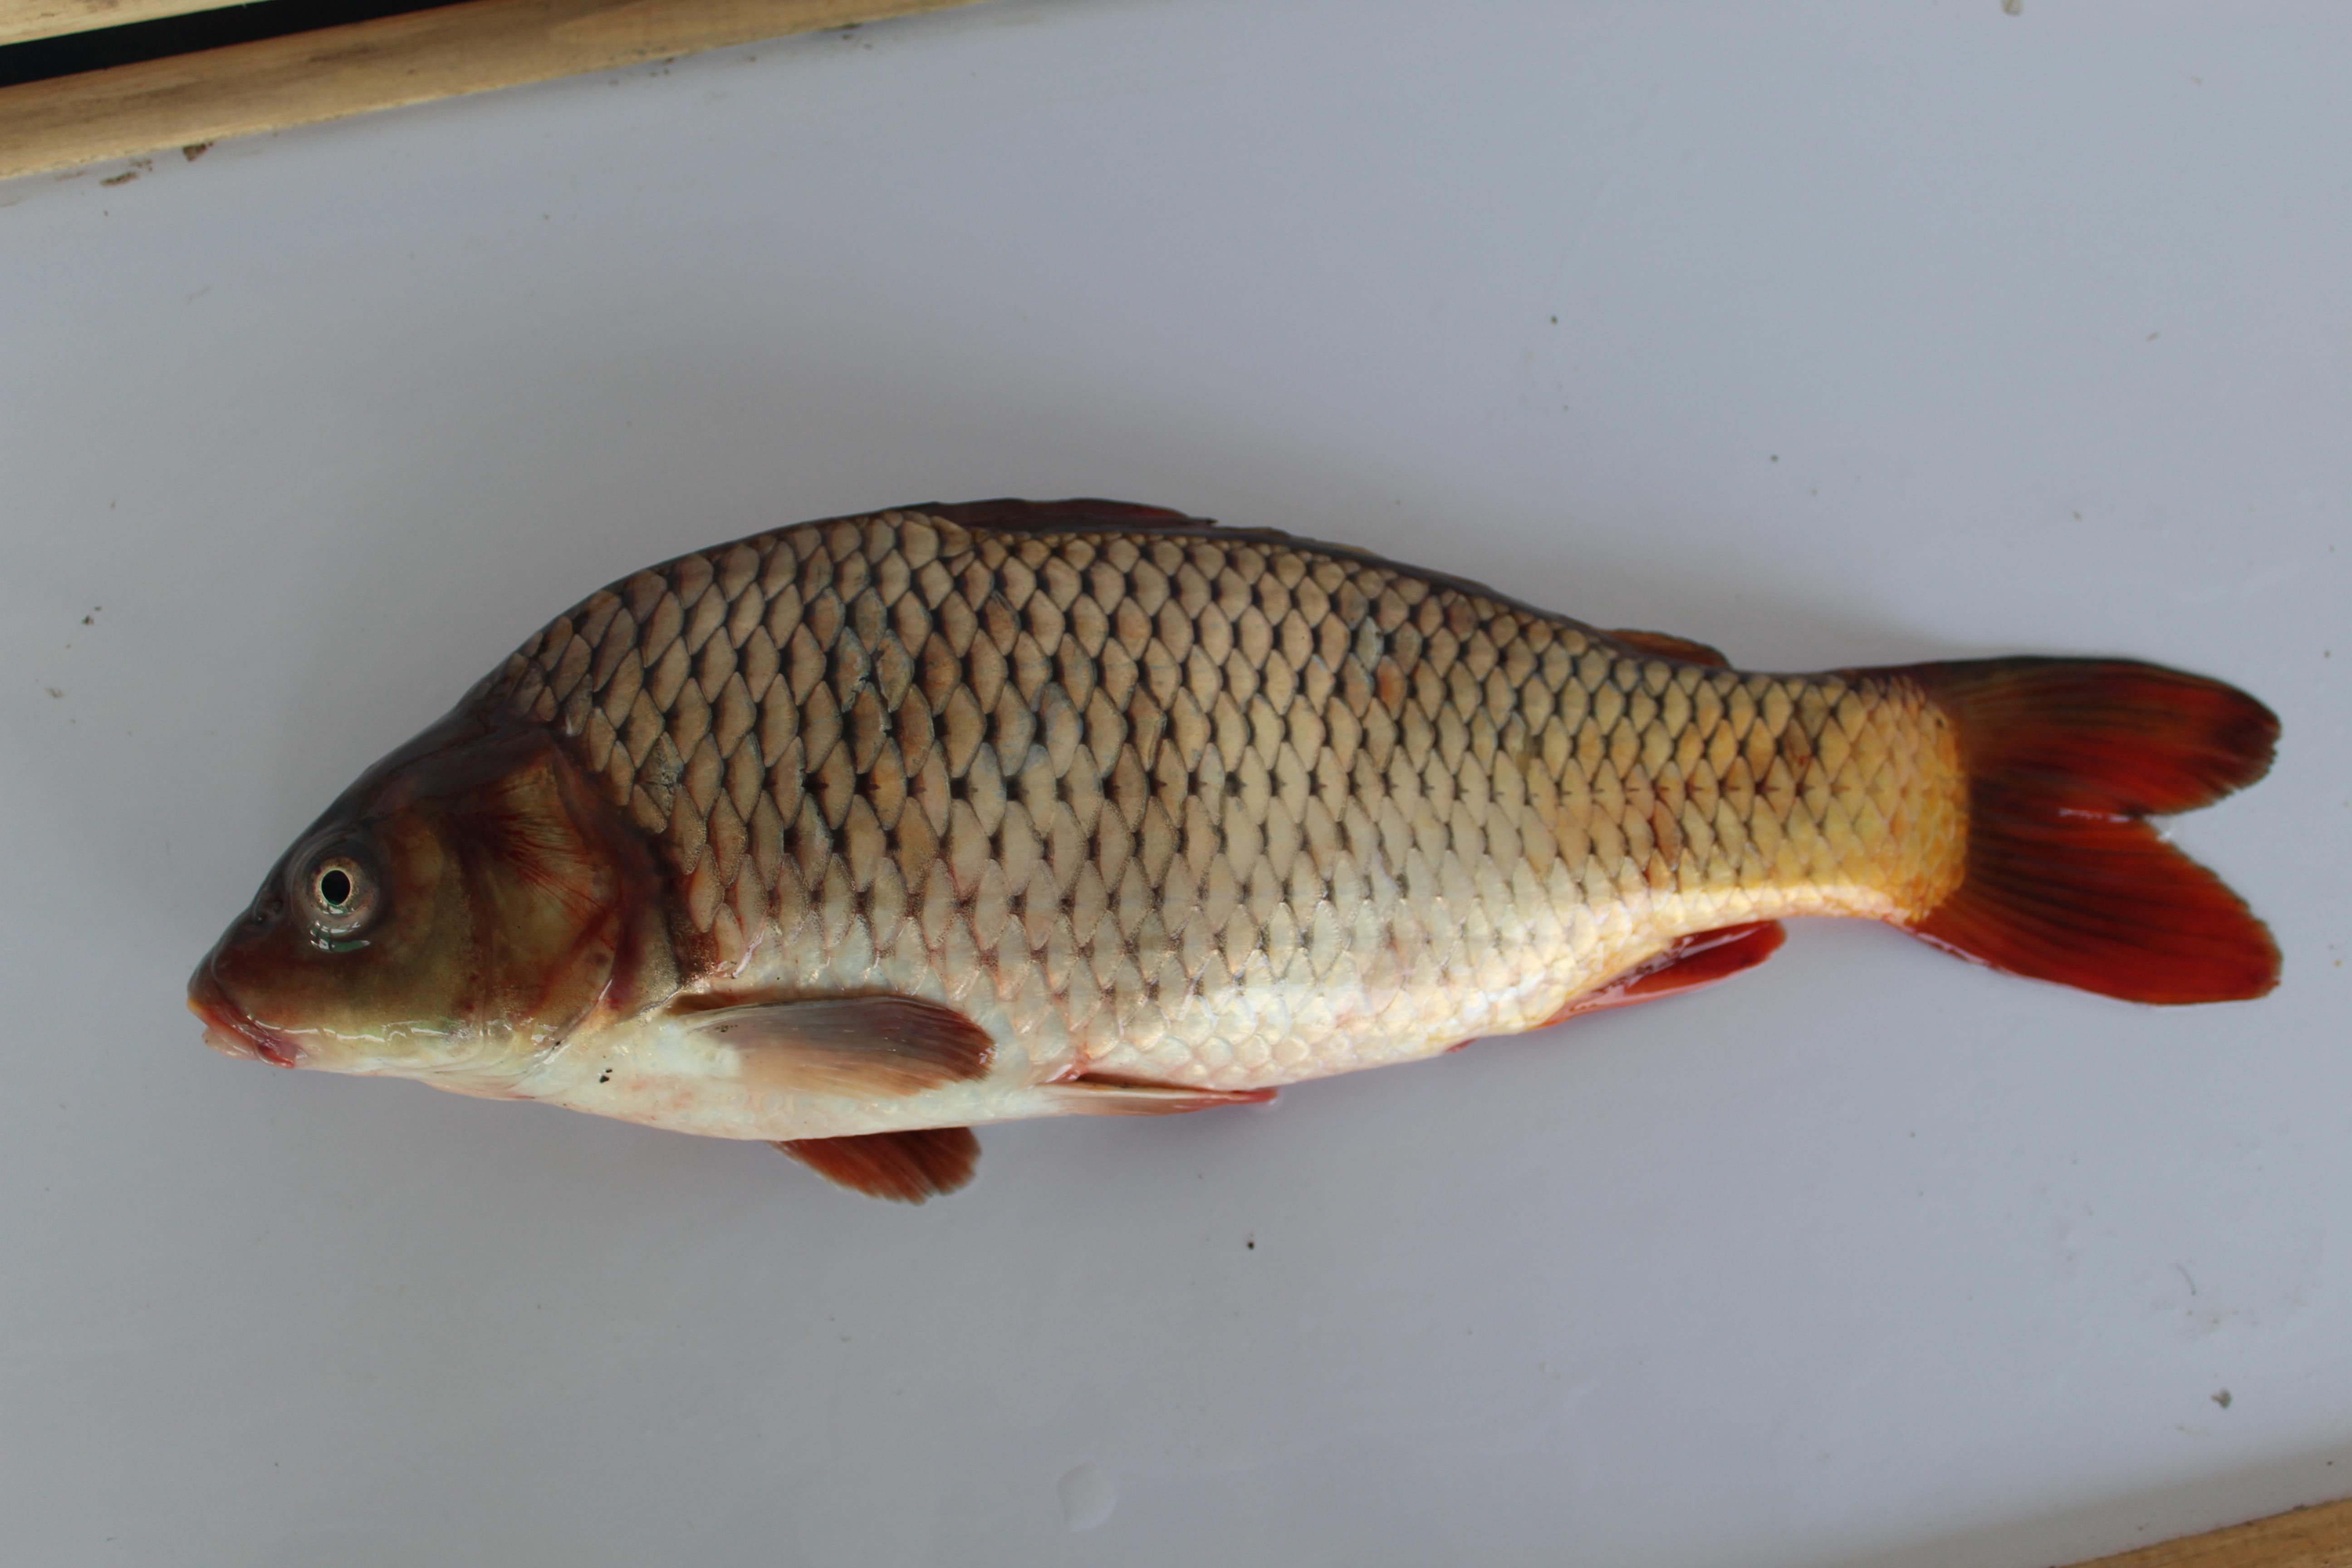Grass Carp: (182, 497, 2290, 1235)
